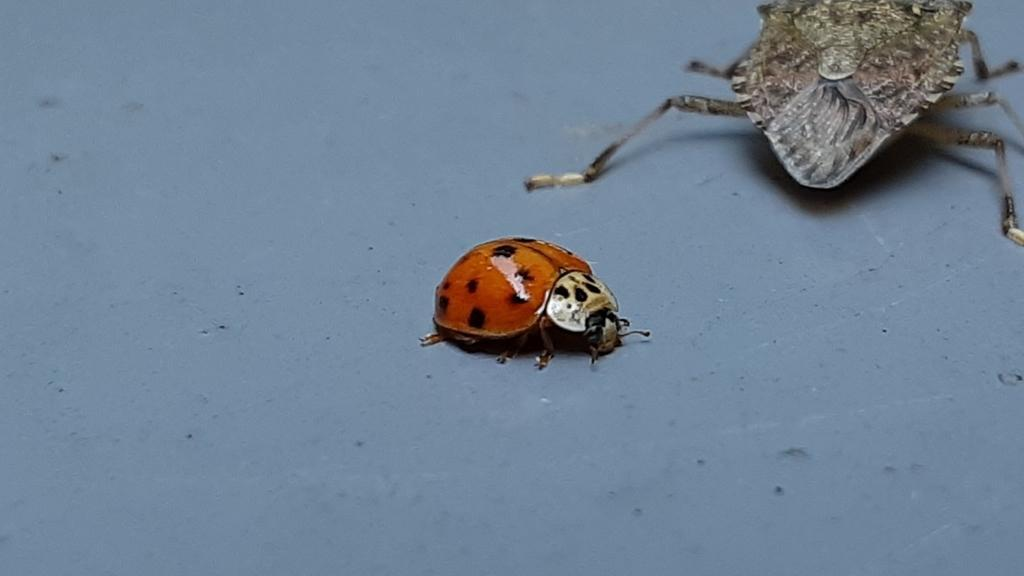ladybug: (419, 236, 656, 373)
